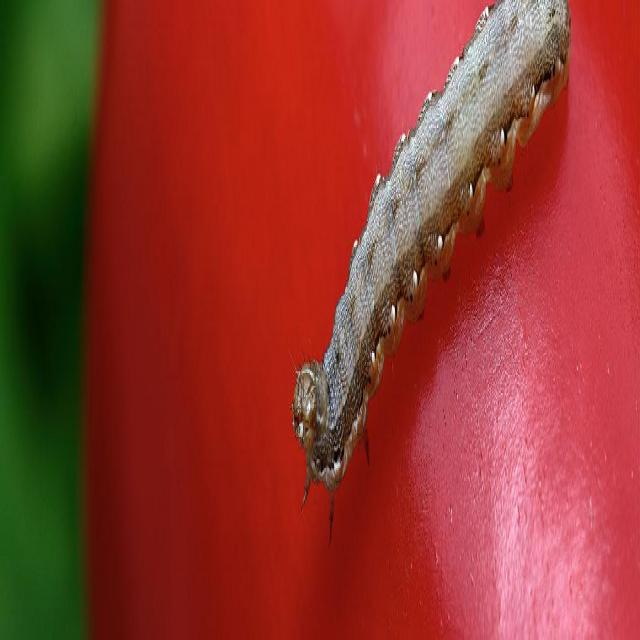BeetArmyWorm-Larva-: (288, 0, 572, 528)
